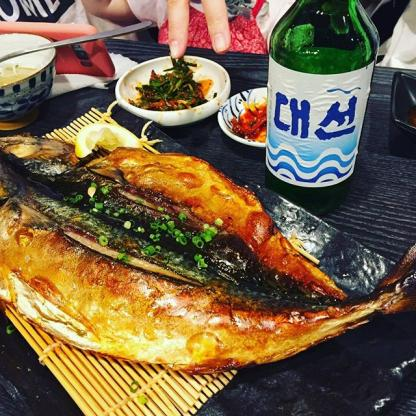Peixe: (4, 132, 416, 368)
